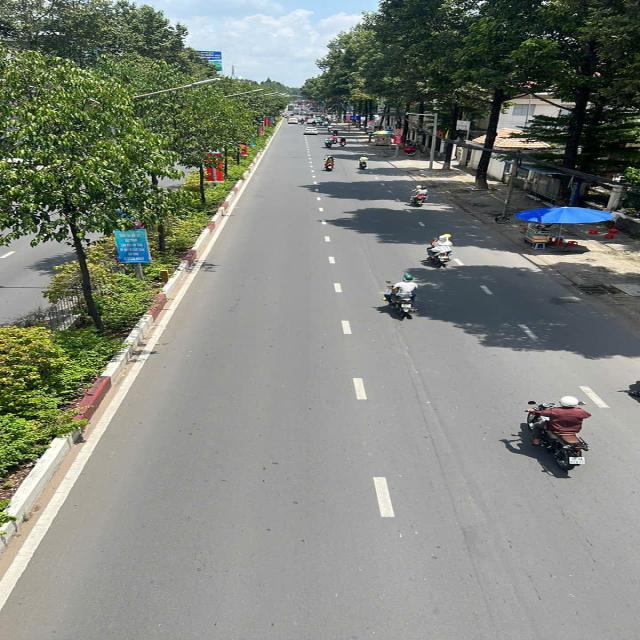car: (299, 122, 325, 137)
motobyte: (520, 394, 599, 474), (384, 272, 424, 322), (426, 231, 460, 270), (406, 179, 434, 210), (321, 153, 342, 174), (358, 152, 373, 174)
